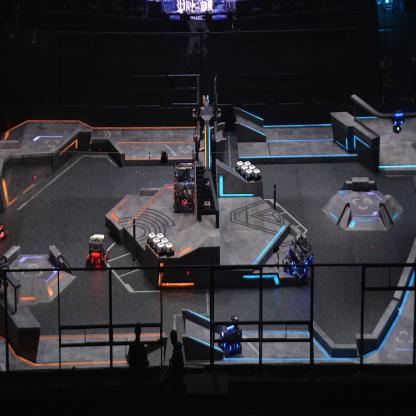car: (282, 231, 314, 283), (172, 162, 196, 213), (218, 316, 243, 357), (86, 233, 109, 268), (0, 211, 8, 242)
